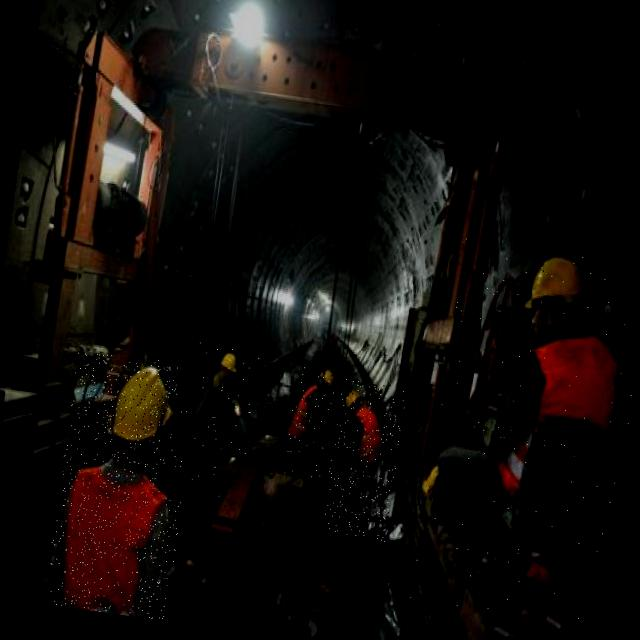helmet: (110, 362, 181, 451), (526, 254, 592, 324), (218, 350, 240, 377), (344, 389, 362, 412), (316, 368, 335, 387)
vest: (483, 327, 629, 600), (56, 462, 171, 620), (343, 406, 392, 480), (286, 380, 326, 451)
